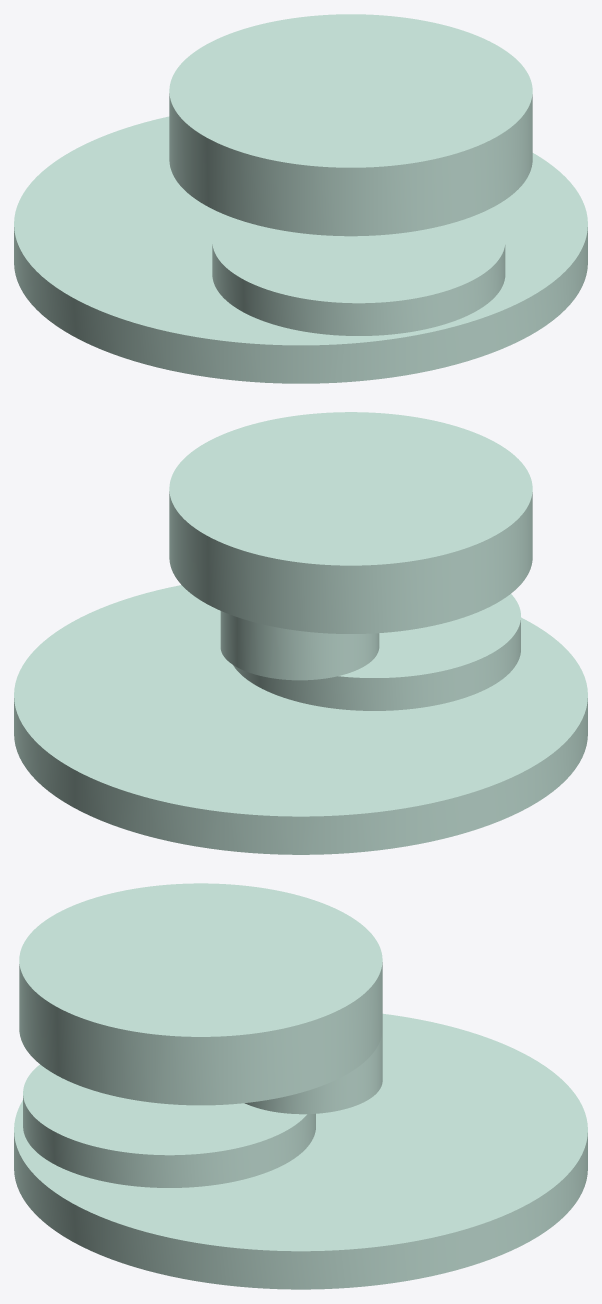
3 renders of one model, top to bottom at view 1: azimuth 30°, elevation 25°; view 2: azimuth 150°, elevation 25°; view 3: azimuth 270°, elevation 25°, orthographic.
Parts seen in each view (by area): view 1: Renderer Node; view 2: Renderer Node; view 3: Renderer Node.
Part boxes in pixels (x1,y1,x2,y2): Renderer Node: [14, 14, 587, 383]; Renderer Node: [14, 412, 587, 854]; Renderer Node: [14, 883, 587, 1289].
Size of the model in its own units: 1.48 by 0.5938 by 1.48.
